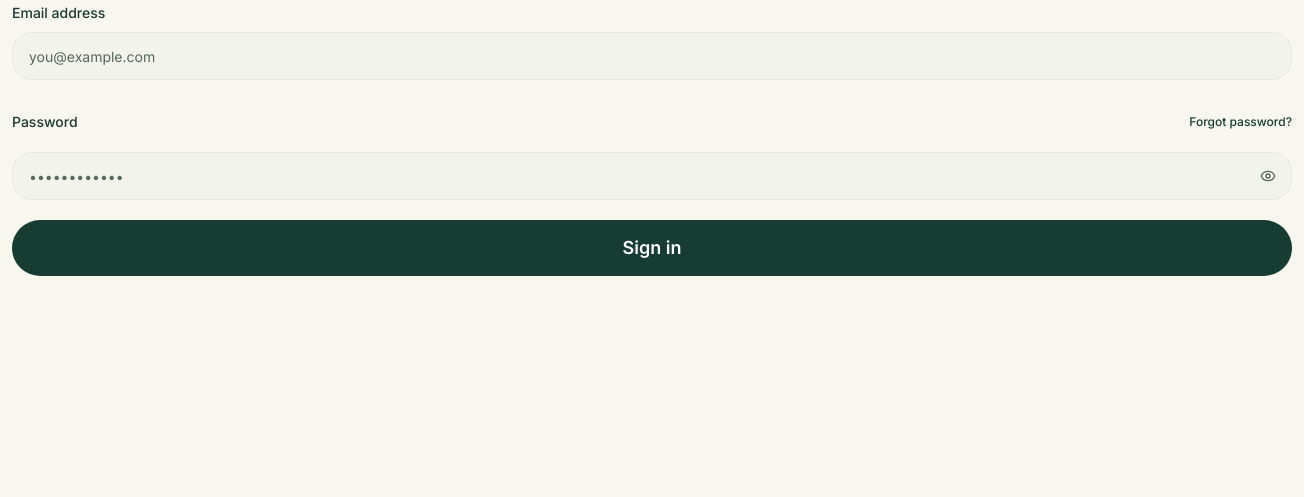
Test case: supports older confirmation error messages without displaying raw server text
Type "owner@example.invalid" into the field labelled "Email address".
click(652, 56); type("owner@example.invalid")  # box [12,32,1292,80]
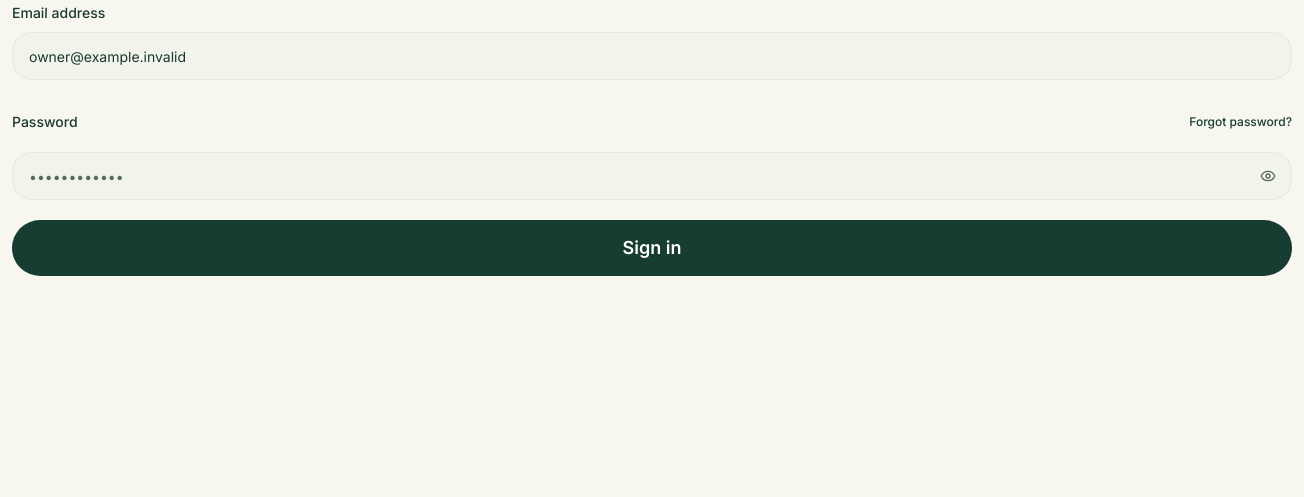
Type "ExamplePass1" into the password field labelled "Password".
click(652, 176); type("ExamplePass1")  # box [12,152,1292,200]
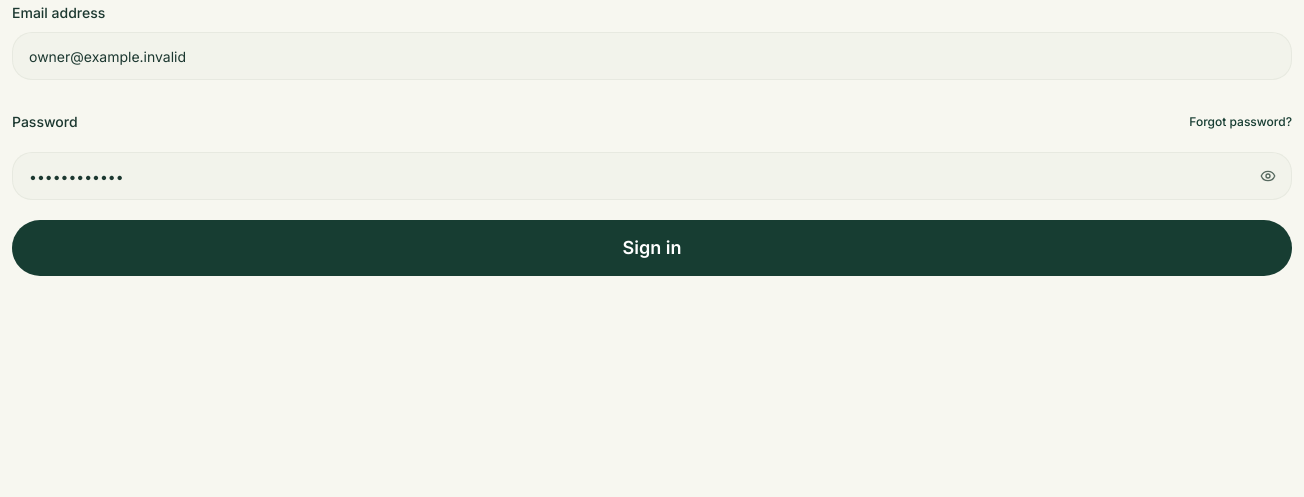
Click the button "Sign in".
click(652, 248)  # box [12,220,1292,276]
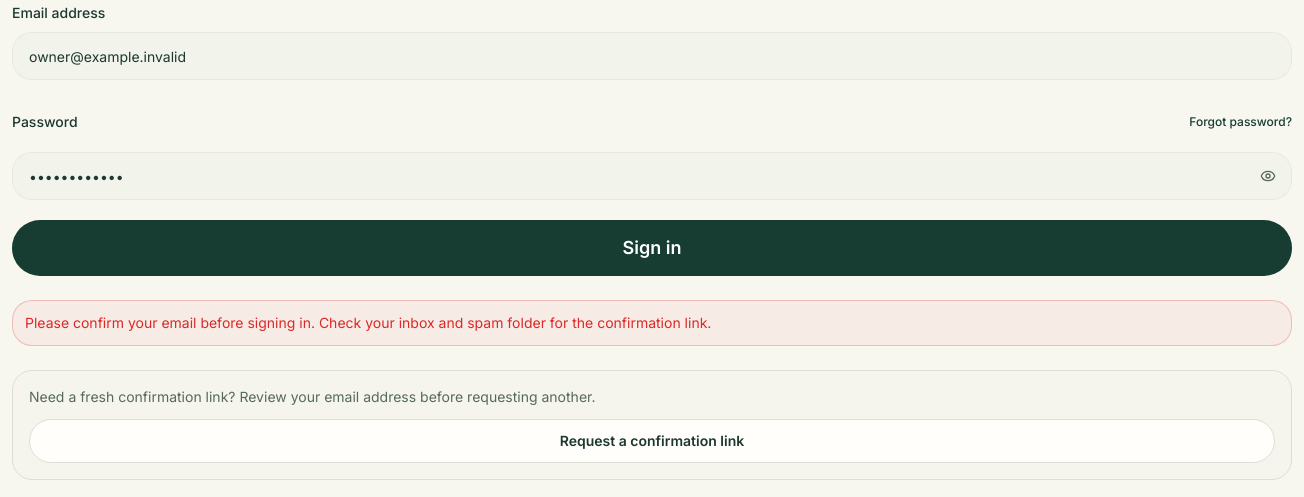
Now the message is shown, box [12,300,1292,346]
Now the link "Request a confirmation link" is shown, box [29,419,1275,463]
